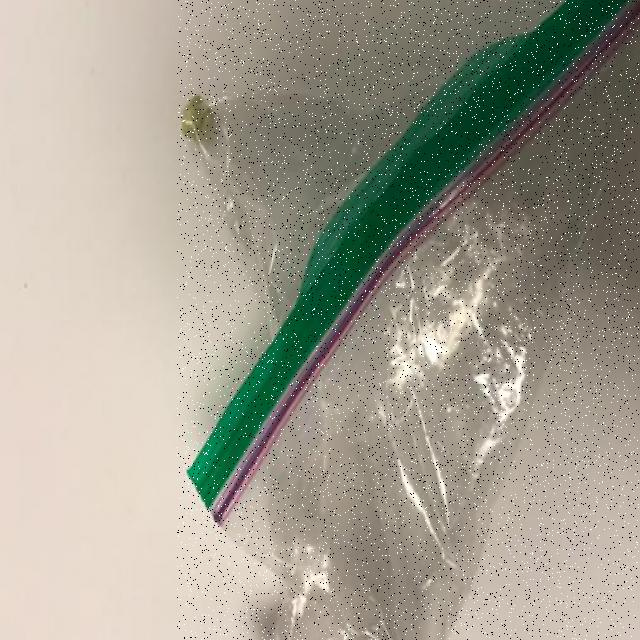plastic: (177, 0, 640, 640)
